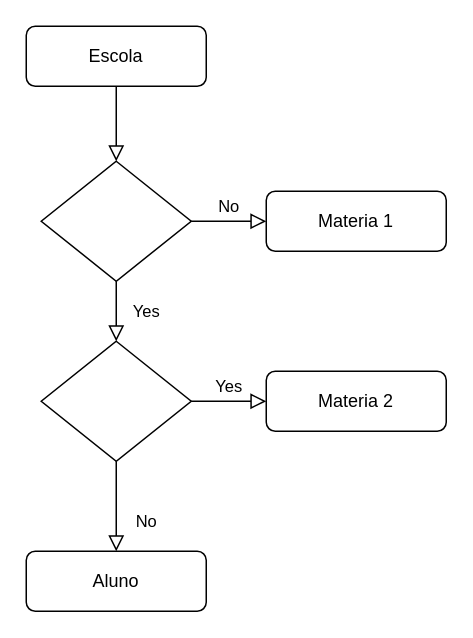
The diagram is 473 pixels wide and 638 high, and some of its shapes have lost their labels. Each missing label, with the centre of its shape:
curso: the point at 115,400
Professor: the point at 115,220
